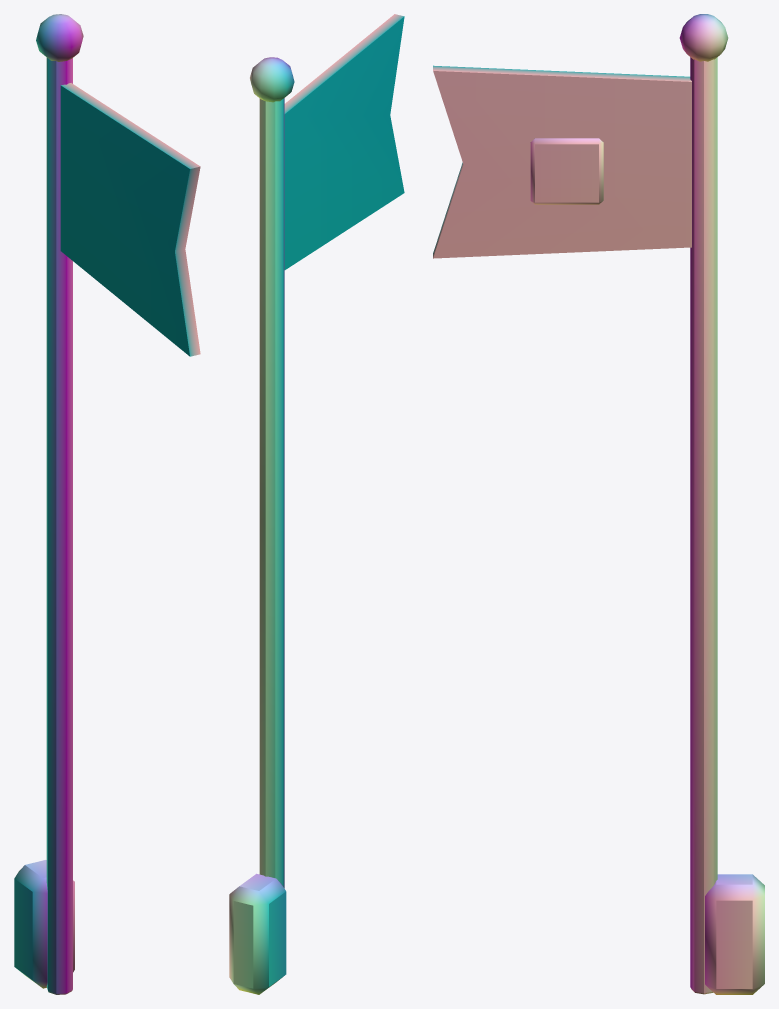
Rendered from acc_banner.glb.
3 views of the same model, side by side, from view 1: azimuth 30°, elevation 25°; view 2: azimuth 150°, elevation 25°; view 3: azimuth 270°, elevation 25° (orthographic). The views are drawn at different scales.
Parts seen in each view (by area): view 1: banner; view 2: banner; view 3: banner.
Boxes of the visible parts, left/top/right/bottom form: banner: left=14, top=14, right=200, bottom=994; banner: left=229, top=14, right=404, bottom=994; banner: left=433, top=14, right=764, bottom=994.
Bounding box in the file's own units: 0.016 × 0.353 × 0.109.
